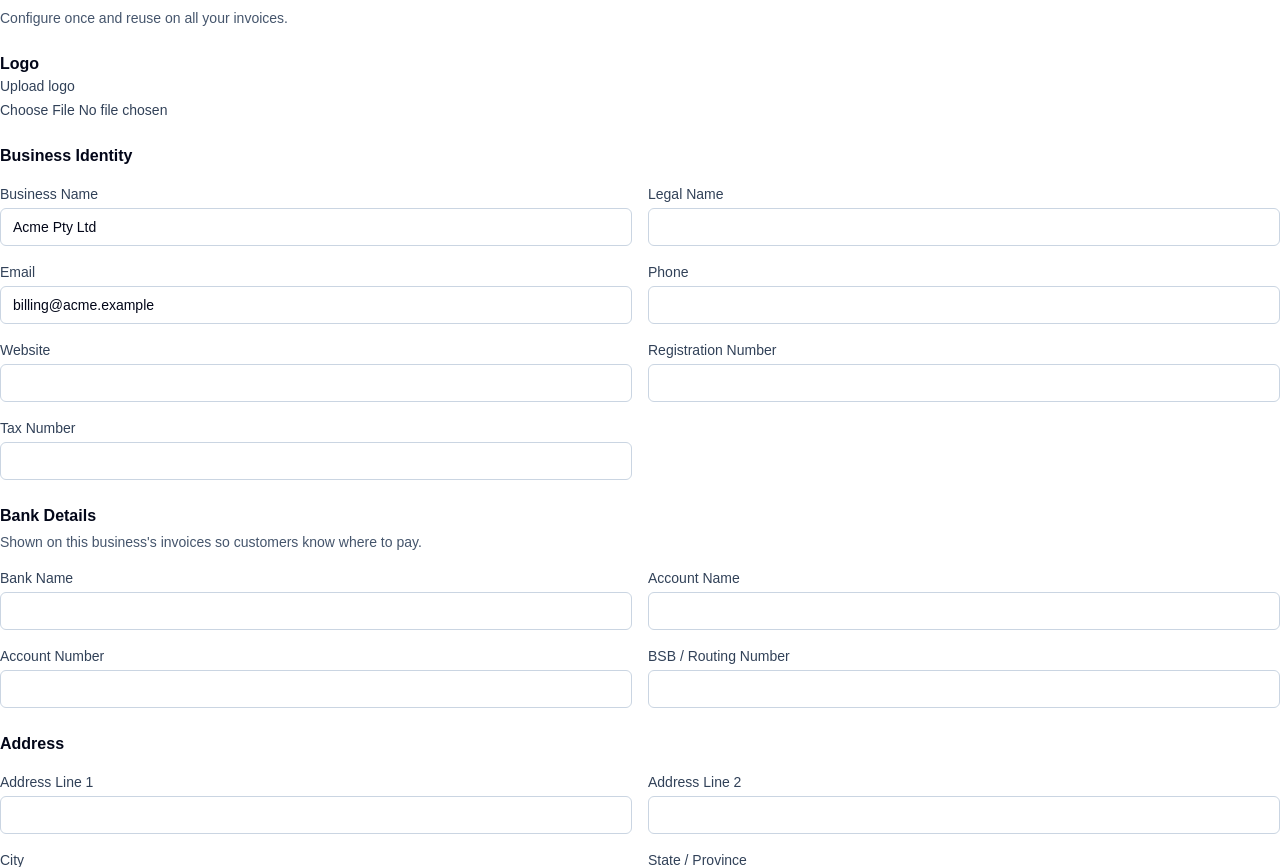
Test: BusinessProfileSettings › saves changes and shows a saved confirmation
Replace the text in the field labelled "Business Name" with "Acme Holdings" at (316, 227), box [0,208,632,246]
(page scrolled)
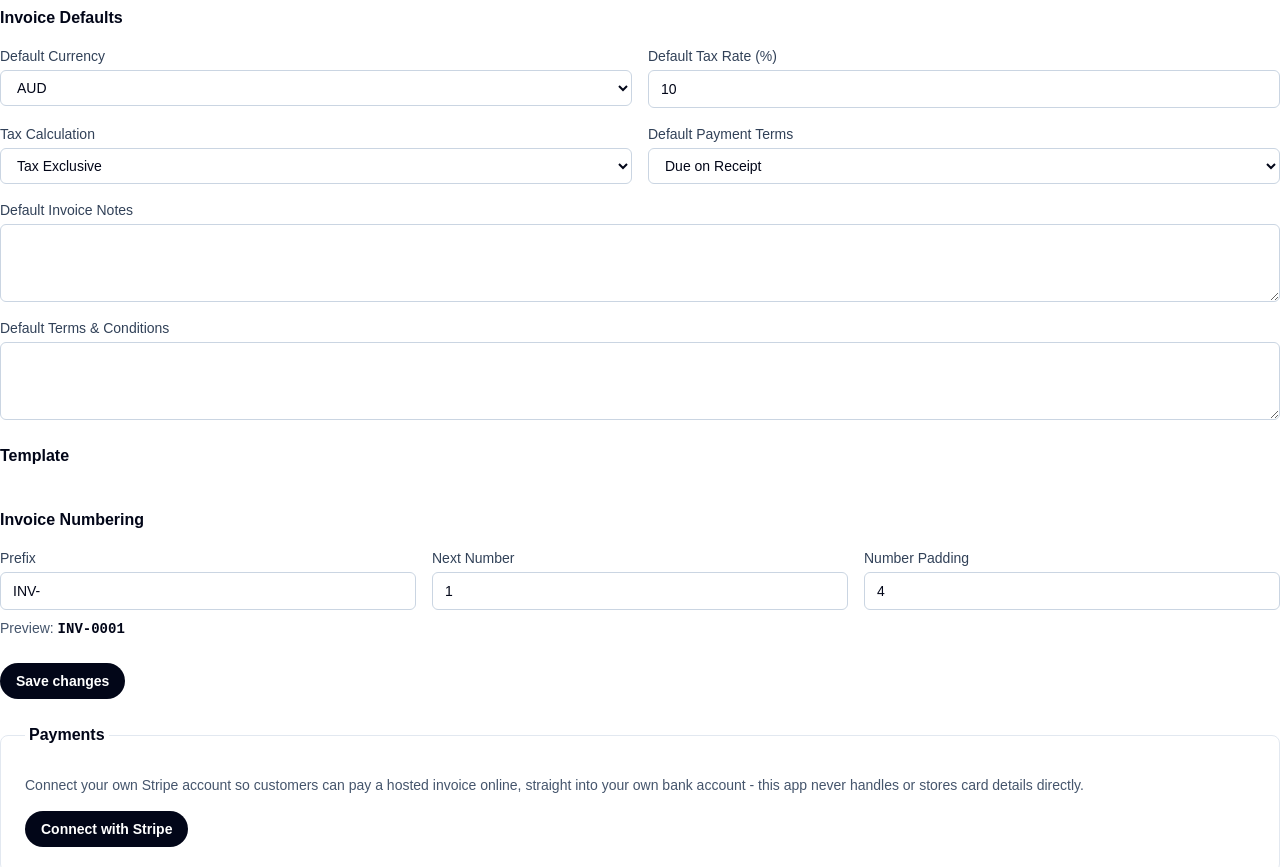
Click the button "Save changes" at (63, 681), box [0,663,125,699]
(page scrolled)
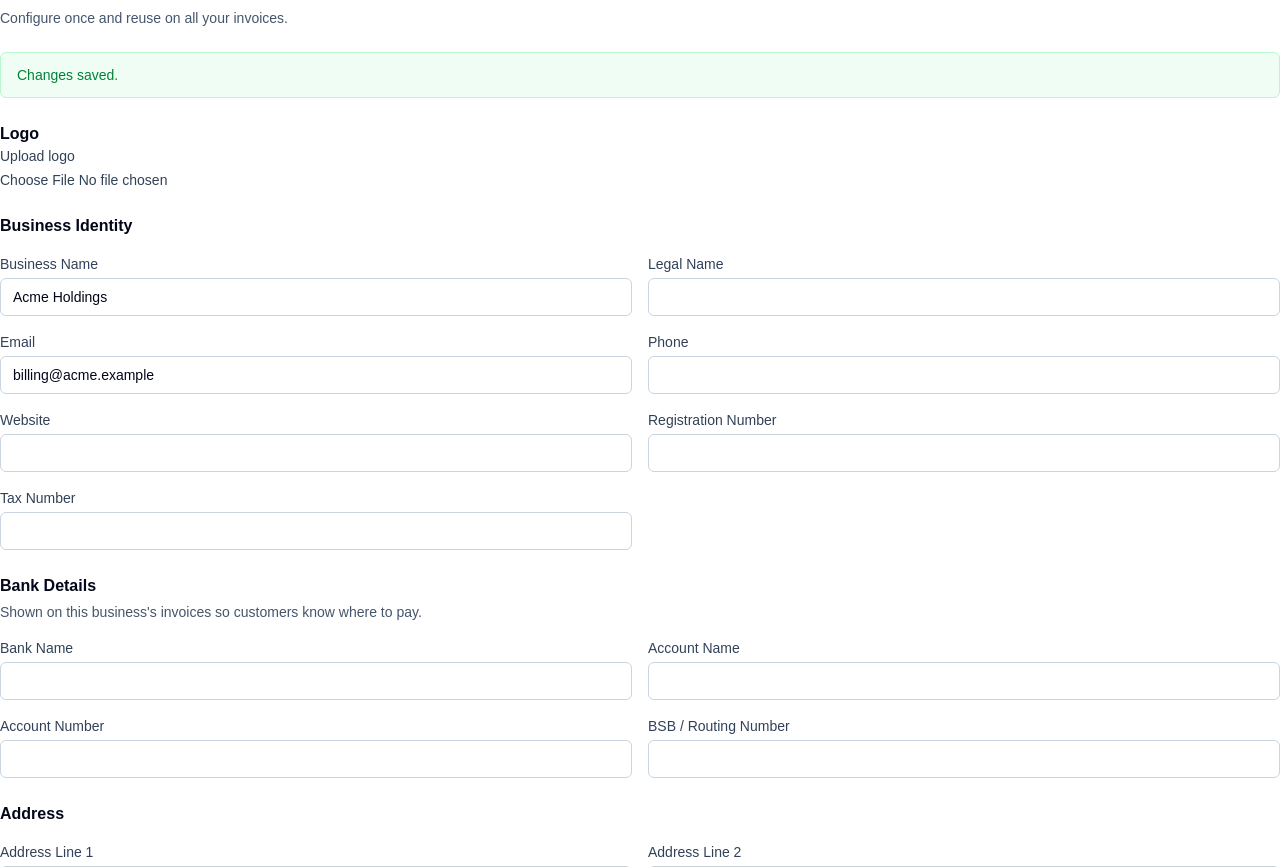
Expected: the message reads "Changes saved.", [17,67,118,83]
